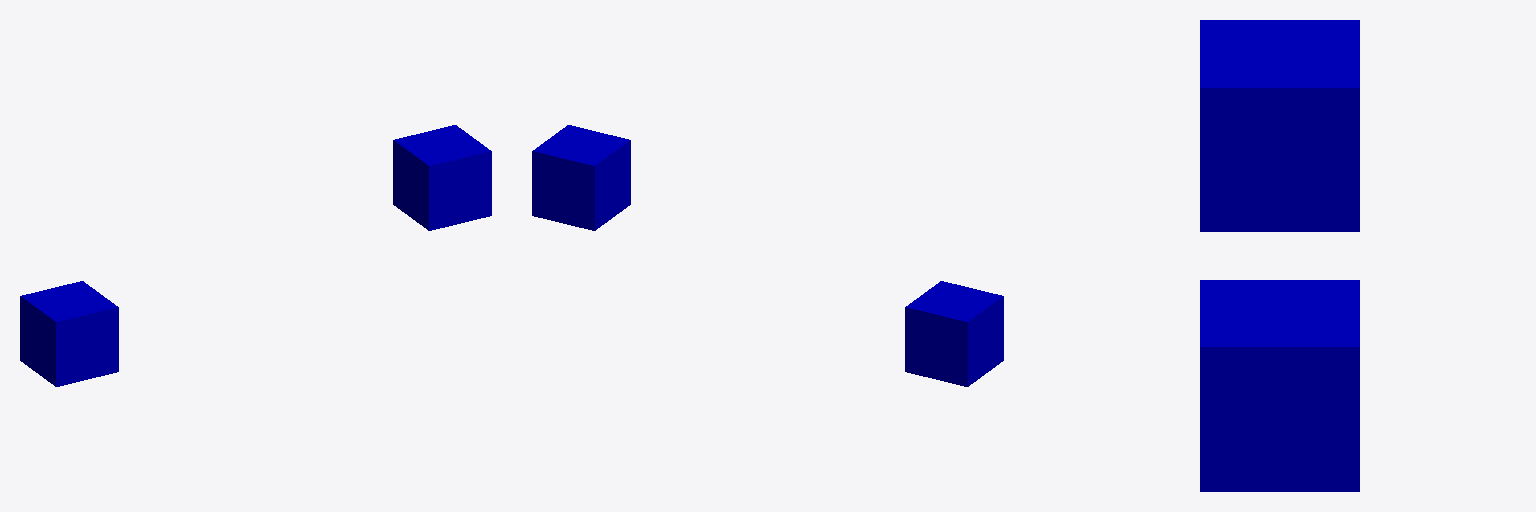
The robot description file, URDF, robot "quadrotor_hokuyo_utm30lx0":
<?xml version="1.0" ?>
<!-- =================================================================================== -->
<!-- |    This document was autogenerated by xacro from urdf/quadrotor_sensors0.urdf.xacro | -->
<!-- |    EDITING THIS FILE BY HAND IS NOT RECOMMENDED                                 | -->
<!-- =================================================================================== -->
<robot name="quadrotor_hokuyo_utm30lx0" xmlns:controller="http://playerstage.sourceforge.net/gazebo/xmlschema/#controller" xmlns:interface="http://playerstage.sourceforge.net/gazebo/xmlschema/#interface" xmlns:sensor="http://playerstage.sourceforge.net/gazebo/xmlschema/#sensor" xmlns:xacro="http://ros.org/wiki/xacro">
  <!-- Included URDF Files -->
  <!-- Instantiate quadrotor_base_macro once (has no parameters atm) -->
  <link name="base_link0">
    <inertial>
      <mass value="1.477"/>
      <origin xyz="0 0 0"/>
      <inertia ixx="0.01152" ixy="0.0" ixz="0.0" iyy="0.01152" iyz="0.0" izz="0.0218"/>
    </inertial>
    <visual>
      <origin rpy="0 0 0" xyz="0 0 0"/>
      <geometry>
        <mesh filename="package://thinc_sim_gazebo/meshes/quadrotor/quadrotor_4.dae"/>
      </geometry>
    </visual>
    <collision>
      <origin rpy="0 0 0" xyz="0 0 0"/>
      <geometry>
        <mesh filename="package://thinc_sim_gazebo/meshes/quadrotor/quadrotor_4.stl"/>
      </geometry>
    </collision>
  </link>
  <gazebo reference="base_link0">
    <turnGravityOff>false</turnGravityOff>
  </gazebo>
  <canonicalBody>base_link0</canonicalBody>
  <gazebo>
    <controller:hector_gazebo_ros_imu name="quadrotor_imu_sim" plugin="libhector_gazebo_ros_imu.so">
      <alwaysOn>true</alwaysOn>
      <updateRate>100.0</updateRate>
      <bodyName>base_link0</bodyName>
      <frameId>ardrone_base_link0</frameId>
      <topicName>ardrone/imu</topicName>
      <rpyOffsets>0 0 0</rpyOffsets>
      <!-- deprecated -->
      <gaussianNoise>0</gaussianNoise>
      <!-- deprecated -->
      <accelDrift>0.5 0.5 0.5</accelDrift>
      <accelGaussianNoise>0.35 0.35 0.3</accelGaussianNoise>
      <rateDrift>0.0 0.0 0.0</rateDrift>
      <rateGaussianNoise>0.00 0.00 0.00</rateGaussianNoise>
      <headingDrift>0.0</headingDrift>
      <headingGaussianNoise>0.00</headingGaussianNoise>
    </controller:hector_gazebo_ros_imu>
    <controller:hector_gazebo_ros_baro name="quadrotor_baro_sim" plugin="libhector_gazebo_ros_baro.so">
      <alwaysOn>true</alwaysOn>
      <updateRate>10.0</updateRate>
      <bodyName>base_link0</bodyName>
      <topicName>pressure_height</topicName>
      <altimeterTopicName>altimeter</altimeterTopicName>
      <offset>0</offset>
      <drift>0.1</drift>
      <gaussianNoise>0.5</gaussianNoise>
    </controller:hector_gazebo_ros_baro>
    <controller:hector_gazebo_ros_magnetic name="quadrotor_magnetic_sim" plugin="libhector_gazebo_ros_magnetic.so">
      <alwaysOn>true</alwaysOn>
      <updateRate>10.0</updateRate>
      <bodyName>base_link0</bodyName>
      <topicName>magnetic</topicName>
      <offset>0 0 0</offset>
      <drift>0.0 0.0 0.0</drift>
      <gaussianNoise>1.3e-2 1.3e-2 1.3e-2</gaussianNoise>
    </controller:hector_gazebo_ros_magnetic>
    <controller:hector_gazebo_ros_gps name="quadrotor_gps_sim" plugin="libhector_gazebo_ros_gps.so">
      <alwaysOn>true</alwaysOn>
      <updateRate>4.0</updateRate>
      <bodyName>base_link0</bodyName>
      <topicName>fix</topicName>
      <velocityTopicName>fix_velocity</velocityTopicName>
      <drift>5.0 5.0 5.0</drift>
      <gaussianNoise>0.1 0.1 0.1</gaussianNoise>
      <velocityDrift>0 0 0</velocityDrift>
      <velocityGaussianNoise>0.1 0.1 0.1</velocityGaussianNoise>
    </controller:hector_gazebo_ros_gps>
    <controller:gazebo_ros_p3d name="quadrotor_groundtruth_sim" plugin="libgazebo_ros_p3d.so">
      <alwaysOn>true</alwaysOn>
      <updateRate>100.0</updateRate>
      <bodyName>base_link0</bodyName>
      <topicName>ground_truth/state</topicName>
      <gaussianNoise>0.0</gaussianNoise>
      <frameName>map</frameName>
    </controller:gazebo_ros_p3d>
  </gazebo>
  <gazebo>
    <controller:hector_gazebo_quadrotor_simple_controller name="quadrotor_simple_controller" plugin="libhector_gazebo_quadrotor_simple_controller.so">
      <alwaysOn>true</alwaysOn>
      <updateRate>0.0</updateRate>
      <bodyName>base_link0</bodyName>
      <stateTopic>ground_truth/state</stateTopic>
      <imuTopic>ardrone/imu</imuTopic>
      <topicName>cmd_vel</topicName>
      <rollpitchProportionalGain>10.0</rollpitchProportionalGain>
      <rollpitchDifferentialGain>5.0</rollpitchDifferentialGain>
      <rollpitchLimit>0.5</rollpitchLimit>
      <yawProportionalGain>2.0</yawProportionalGain>
      <yawDifferentialGain>1.0</yawDifferentialGain>
      <yawLimit>1.5</yawLimit>
      <velocityXYProportionalGain>5.0</velocityXYProportionalGain>
      <velocityXYDifferentialGain>1.0</velocityXYDifferentialGain>
      <velocityXYLimit>2</velocityXYLimit>
      <velocityZProportionalGain>5.0</velocityZProportionalGain>
      <velocityZDifferentialGain>1.0</velocityZDifferentialGain>
      <velocityZLimit>0.5</velocityZLimit>
      <maxForce>30</maxForce>
      <motionSmallNoise>0.05</motionSmallNoise>
      <motionDriftNoise>0.03</motionDriftNoise>
      <motionDriftNoiseTime>5.0</motionDriftNoiseTime>
    </controller:hector_gazebo_quadrotor_simple_controller>
    <controller:hector_gazebo_quadrotor_state_controller name="quadrotor_state_controller" plugin="libhector_gazebo_quadrotor_state_controller.so">
      <alwaysOn>true</alwaysOn>
      <updateRate>0.0</updateRate>
      <bodyName>base_link0</bodyName>
      <stateTopic>ground_truth/state</stateTopic>
      <imuTopic>ardrone/imu</imuTopic>
      <sonarTopic>sonar_height</sonarTopic>
      <topicName>cmd_vel</topicName>
    </controller:hector_gazebo_quadrotor_state_controller>
  </gazebo>
  <!-- Sonar height sensor -->
  <joint name="sonar_joint" type="fixed">
    <origin rpy="0 1.57079632679 0" xyz="-0.15 0.0 0.0"/>
    <parent link="base_link0"/>
    <child link="sonar_link"/>
  </joint>
  <link name="sonar_link">
    <inertial>
      <mass value="0.001"/>
      <origin rpy="0 0 0" xyz="0 0 0"/>
      <inertia ixx="0.000000017" ixy="0" ixz="0" iyy="0.000000017" iyz="0" izz="0.000000017"/>
    </inertial>
    <visual>
      <origin rpy="0 0 0" xyz="0 0 0"/>
      <geometry>
        <!--<box size="0.01 0.01 0.01" /> -->
        <mesh filename="package://thinc_sim_gazebo/meshes/sonar_sensor/max_sonar_ez4.dae"/>
      </geometry>
    </visual>
    <collision>
      <origin rpy="0 0 0" xyz="0 0 0"/>
      <geometry>
        <box size="0.01 0.01 0.01"/>
      </geometry>
    </collision>
  </link>
  <gazebo reference="sonar_link">
    <sensor:ray name="sonar">
      <rayCount>3</rayCount>
      <rangeCount>3</rangeCount>
      <verticalRayCount>3</verticalRayCount>
      <verticalRangeCount>3</verticalRangeCount>
      <minAngle>-20.0</minAngle>
      <verticalMinAngle>-20.0</verticalMinAngle>
      <maxAngle>20.0</maxAngle>
      <verticalMaxAngle>20.0</verticalMaxAngle>
      <minRange>0.01</minRange>
      <maxRange>3.0</maxRange>
      <resRange>0.01</resRange>
      <updateRate>10</updateRate>
      <controller:hector_gazebo_ros_sonar name="gazebo_ros_sonar_controller" plugin="libhector_gazebo_ros_sonar.so">
        <gaussianNoise>0.000</gaussianNoise>
        <topicName>sonar_height</topicName>
        <frameId>sonar_link</frameId>
      </controller:hector_gazebo_ros_sonar>
    </sensor:ray>
  </gazebo>
  <!-- Hokuyo UTM-30LX mounted upside down below the quadrotor body 
    <include filename="$(find thinc_sim_gazebo)/urdf/sensors/hokuyo_utm30lx.urdf.xacro" />
    <xacro:hokuyo_utm30lx name="laser0" parent="base_link0" ros_topic="scan" update_rate="40" ray_count="1081" min_angle="135" max_angle="-135">
      <origin xyz="0.0 0.0 0.08" rpy="${M_PI} 0 0"/>
    </xacro:hokuyo_utm30lx>-->
  <!-- The following two cameras should be united to one! -->
  <!-- Forward facing camera -->
  <joint name="front_joint" type="fixed">
    <origin rpy="0 0 0" xyz="0.21 0.0 0.01"/>
    <parent link="base_link0"/>
    <child link="front_link"/>
  </joint>
  <link name="front_link">
    <inertial>
      <mass value="0.001"/>
      <origin rpy="0 0 0" xyz="0 0 0"/>
      <inertia ixx="0.0001" ixy="0" ixz="0" iyy="0.0001" iyz="0" izz="0.0001"/>
    </inertial>
    <visual>
      <origin rpy="0 0 0" xyz="0 0 0"/>
      <geometry>
        <box size="0.01 0.01 0.01"/>
      </geometry>
      <material name="Blue">
        <color rgba="0.0 0.0 0.8 1"/>
      </material>
    </visual>
    <collision>
      <origin rpy="0 0 0" xyz="0 0 0"/>
      <geometry>
        <box size="0.01 0.01 0.01"/>
      </geometry>
    </collision>
  </link>
  <joint name="front_optical_joint" type="fixed">
    <origin rpy="-1.57079632679 0.0 -1.57079632679" xyz="0 0 0"/>
    <parent link="front_link"/>
    <child link="ardrone_base_frontcam"/>
  </joint>
  <link name="ardrone_base_frontcam">
    <inertial>
      <mass value="0.01"/>
      <origin xyz="0 0 0"/>
      <inertia ixx="0.001" ixy="0.0" ixz="0.0" iyy="0.001" iyz="0.0" izz="0.001"/>
    </inertial>
    <visual>
      <origin rpy="0 0 0" xyz="0 0 0"/>
      <geometry>
        <box size="0.001 0.001 0.001"/>
      </geometry>
    </visual>
    <collision>
      <origin rpy="0 0 0" xyz="0 0 0"/>
      <geometry>
        <box size="0.001 0.001 0.001"/>
      </geometry>
    </collision>
  </link>
  <gazebo reference="front_link">
    <sensor:camera name="front_camera_sensor">
      <imageSize>640 360</imageSize>
      <imageFormat>R8G8B8</imageFormat>
      <hfov>81</hfov>
      <nearClip>0.01</nearClip>
      <farClip>100</farClip>
      <updateRate>60</updateRate>
      <controller:gazebo_ros_depth_camera name="front_camera_controller" plugin="libgazebo_ros_depth_camera.so">
        <cameraName>ardrone/front</cameraName>
        <alwaysOn>true</alwaysOn>
        <updateRate>60</updateRate>
        <imageTopicName>ardrone/front/image_raw</imageTopicName>
        <cameraInfoTopicName>ardrone/front/camera_info</cameraInfoTopicName>
        <frameName>ardrone_base_frontcam</frameName>
        <interface:camera name="front_camera_iface"/>
      </controller:gazebo_ros_depth_camera>
    </sensor:camera>
    <turnGravityOff>true</turnGravityOff>
    <material>PR2/Blue</material>
  </gazebo>
  <!-- Downward facing camera -->
  <joint name="bottom_joint" type="fixed">
    <origin rpy="0 -1.57079632679 0" xyz="0.15 0.0 0.0"/>
    <parent link="base_link0"/>
    <child link="bottom_link"/>
  </joint>
  <link name="bottom_link">
    <inertial>
      <mass value="0.001"/>
      <origin rpy="0 0 0" xyz="0 0 0"/>
      <inertia ixx="0.0001" ixy="0" ixz="0" iyy="0.0001" iyz="0" izz="0.0001"/>
    </inertial>
    <visual>
      <origin rpy="0 0 0" xyz="0 0 0"/>
      <geometry>
        <box size="0.01 0.01 0.01"/>
      </geometry>
      <material name="Blue">
        <color rgba="0.0 0.0 0.8 1"/>
      </material>
    </visual>
    <collision>
      <origin rpy="0 0 0" xyz="0 0 0"/>
      <geometry>
        <box size="0.01 0.01 0.01"/>
      </geometry>
    </collision>
  </link>
  <joint name="bottom_optical_joint" type="fixed">
    <origin rpy="-1.57079632679 0.0 -1.57079632679" xyz="0 0 0"/>
    <parent link="bottom_link"/>
    <child link="ardrone_base_bottomcam"/>
  </joint>
  <link name="ardrone_base_bottomcam">
    <inertial>
      <mass value="0.01"/>
      <origin xyz="0 0 0"/>
      <inertia ixx="0.001" ixy="0.0" ixz="0.0" iyy="0.001" iyz="0.0" izz="0.001"/>
    </inertial>
    <visual>
      <origin rpy="0 0 0" xyz="0 0 0"/>
      <geometry>
        <box size="0.001 0.001 0.001"/>
      </geometry>
    </visual>
    <collision>
      <origin rpy="0 0 0" xyz="0 0 0"/>
      <geometry>
        <box size="0.001 0.001 0.001"/>
      </geometry>
    </collision>
  </link>
  <gazebo reference="bottom_link">
    <sensor:camera name="bottom_camera_sensor">
      <imageSize>640 360</imageSize>
      <imageFormat>R8G8B8</imageFormat>
      <hfov>81</hfov>
      <nearClip>0.01</nearClip>
      <farClip>100</farClip>
      <updateRate>60</updateRate>
      <controller:gazebo_ros_depth_camera name="bottom_camera_controller" plugin="libgazebo_ros_depth_camera.so">
        <cameraName>ardrone/bottom</cameraName>
        <alwaysOn>true</alwaysOn>
        <updateRate>60</updateRate>
        <imageTopicName>ardrone/bottom/image_raw</imageTopicName>
        <cameraInfoTopicName>ardrone/bottom/camera_info</cameraInfoTopicName>
        <frameName>ardrone_base_bottomcam</frameName>
        <interface:camera name="bottom_camera_iface"/>
      </controller:gazebo_ros_depth_camera>
    </sensor:camera>
    <turnGravityOff>true</turnGravityOff>
    <material>PR2/Blue</material>
  </gazebo>
</robot>

--- Render facts (derived) ---
3 views of the same robot in one strip: view 1: azimuth 30°, elevation 25°; view 2: azimuth 150°, elevation 25°; view 3: azimuth 270°, elevation 25° (orthographic).
Model quadrotor_hokuyo_utm30lx0 with 6 links and 5 joints (5 fixed), rooted at base_link0, posed every joint at zero.
Visible links, largest first — view 1: front_link, bottom_link; view 2: front_link, bottom_link; view 3: front_link, bottom_link.
Boxes of the visible links, <box> form: front_link: <box>393,125,491,230</box>; bottom_link: <box>20,281,118,386</box>; front_link: <box>532,125,630,230</box>; bottom_link: <box>905,281,1003,386</box>; front_link: <box>1200,280,1359,491</box>; bottom_link: <box>1200,20,1359,231</box>.
Size in the robot's own frame: 0.07 by 0.01 by 0.02 metres.
Meshes: 2 distinct files referenced, 0 mesh visuals loaded (none loaded); not drawn: 2 (reference not matched to a file when rendering).